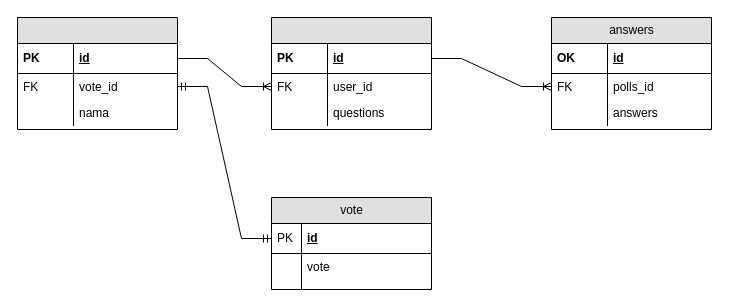
The diagram is 729 pixels wide and 307 high, and some of its shapes have lost their labels. Each missing label, with the box of its shape:
polls: (270, 16, 432, 130)
users: (16, 16, 178, 130)
